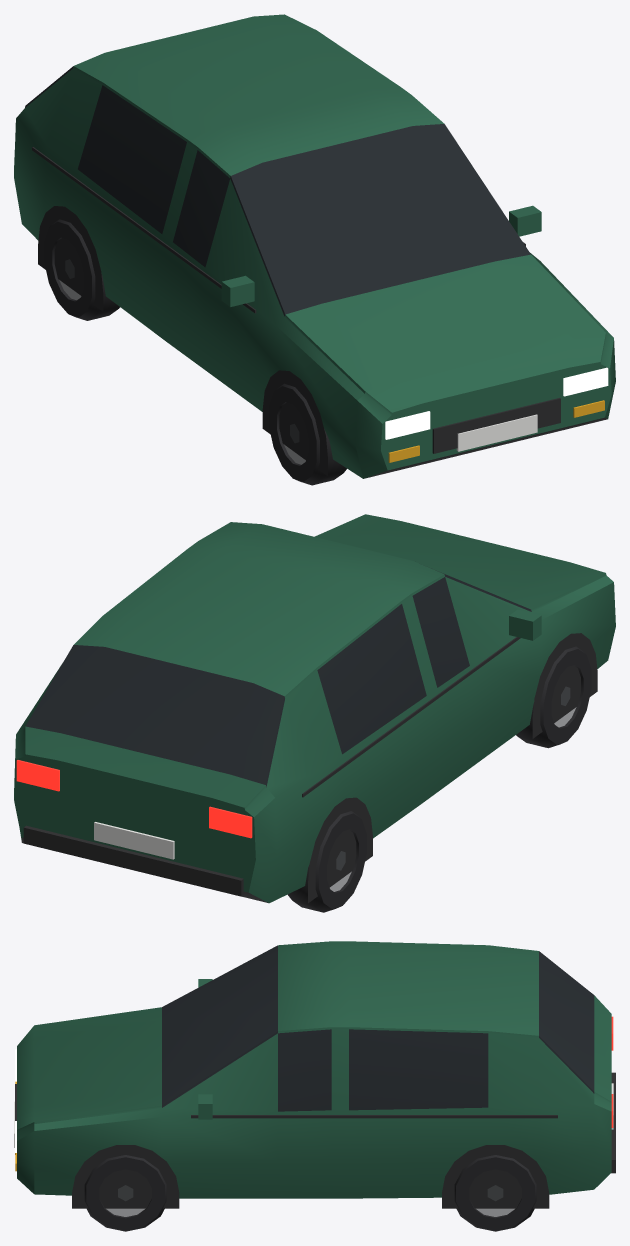
The model's file is hatchback_green.glb.
The picture shows the model from 3 angles, top to bottom: view 1: azimuth 30°, elevation 25°; view 2: azimuth 150°, elevation 25°; view 3: azimuth 270°, elevation 25°; orthographic projection. The views are drawn at different scales.
Visible parts, largest first — view 1: hatchback; view 2: hatchback; view 3: hatchback.
Part boxes in pixels (x1,y1,x2,y2): hatchback: (14, 14, 615, 485); hatchback: (14, 514, 615, 912); hatchback: (14, 941, 615, 1231).
Bounding box in the file's own units: 0.1224 × 0.0912 × 0.249.
